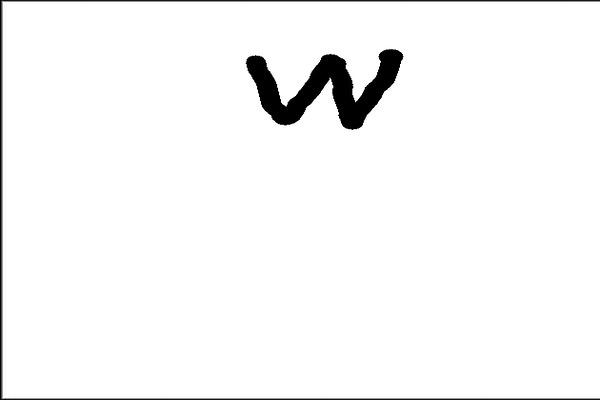w: (218, 45, 434, 149)
